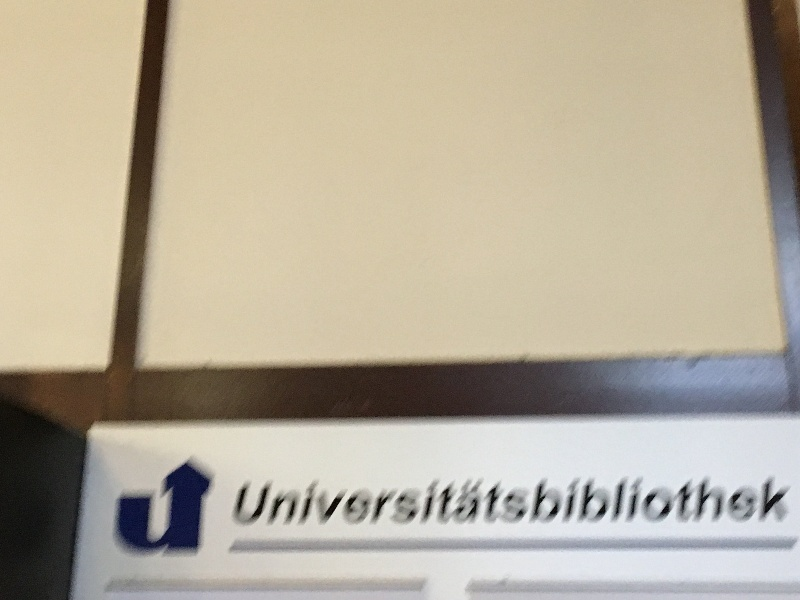text: (257, 477, 272, 527), (273, 477, 288, 527), (289, 477, 304, 527), (305, 477, 320, 527), (321, 477, 336, 527), (337, 477, 352, 527), (353, 477, 368, 527), (369, 477, 384, 527), (385, 477, 400, 527), (401, 477, 416, 527), (417, 477, 432, 527), (433, 477, 448, 527), (449, 477, 464, 527), (465, 477, 480, 527), (481, 477, 496, 527), (497, 477, 512, 527), (513, 477, 528, 527), (529, 477, 544, 527), (545, 477, 560, 527), (561, 477, 576, 527), (577, 477, 592, 527), (593, 477, 608, 527), (609, 477, 624, 527), (625, 477, 640, 527), (641, 477, 656, 527), (657, 477, 672, 527), (673, 477, 688, 527), (689, 477, 704, 527), (705, 477, 720, 527), (721, 477, 736, 527), (737, 477, 752, 527), (753, 477, 768, 527), (769, 477, 784, 527), (243, 477, 256, 527), (785, 477, 791, 527)
